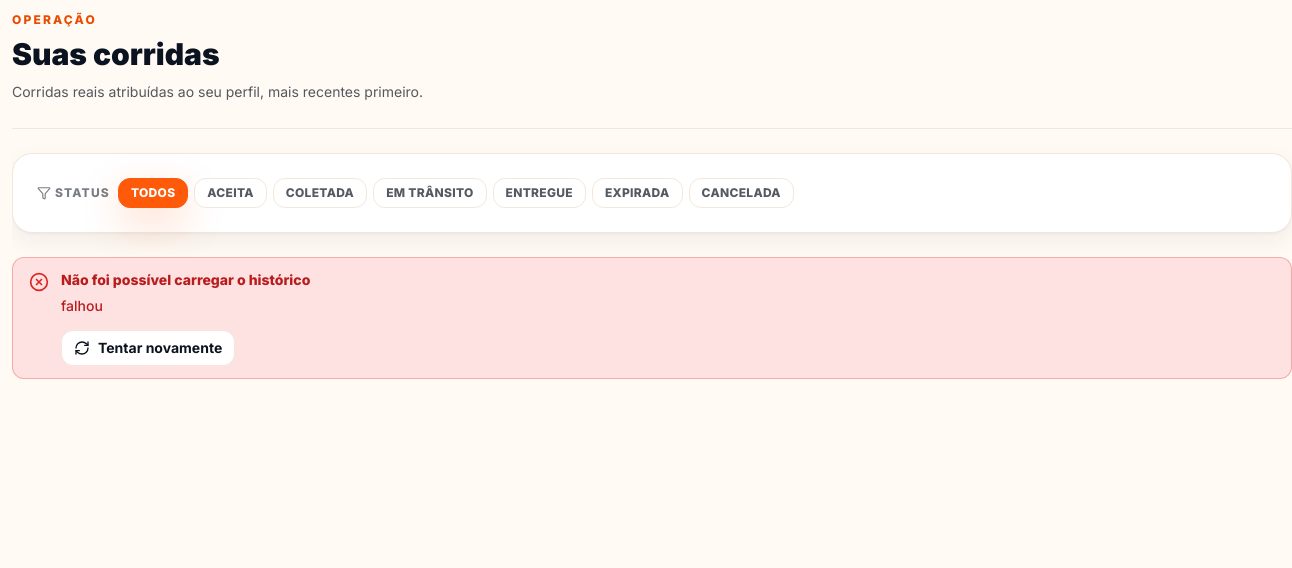
HistoricoMotoboy › shows a recoverable error and retries
Expected: the text "Não foi possível carregar o histórico" is shown, [61,270,310,290]
Click the button "Tentar novamente". click: x=148, y=348
box: [61,330,235,366]
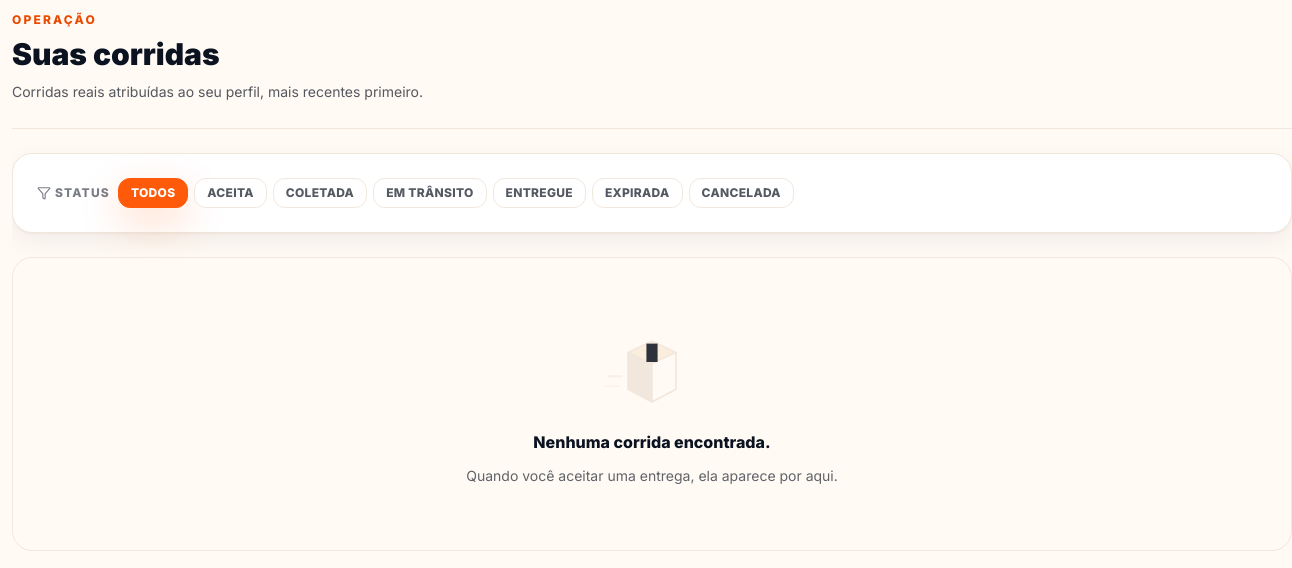
Expected: the text "Nenhuma corrida encontrada." is shown, [533,430,771,454]
